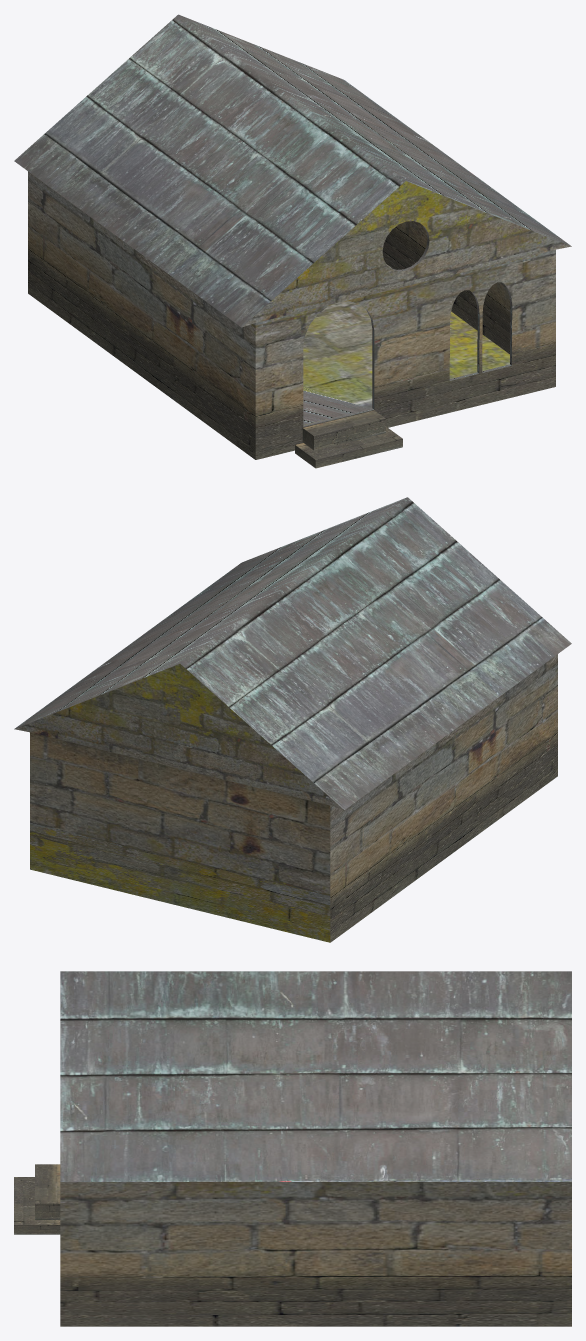
The model's file is cemetary.fbx.
3 renders of one model, top to bottom at view 1: azimuth 30°, elevation 25°; view 2: azimuth 150°, elevation 25°; view 3: azimuth 270°, elevation 25°, orthographic. The views are drawn at different scales.
Visible parts, largest first — view 1: pCube10; view 2: pCube10; view 3: pCube10.
Part boxes in pixels (left/top/right/bottom): pCube10: left=14, top=14, right=571, bottom=468; pCube10: left=14, top=497, right=571, bottom=942; pCube10: left=14, top=971, right=571, bottom=1326.
Bounding box in the file's own units: 26.15 × 18.57 × 34.01.
1 material, 1 textured.
